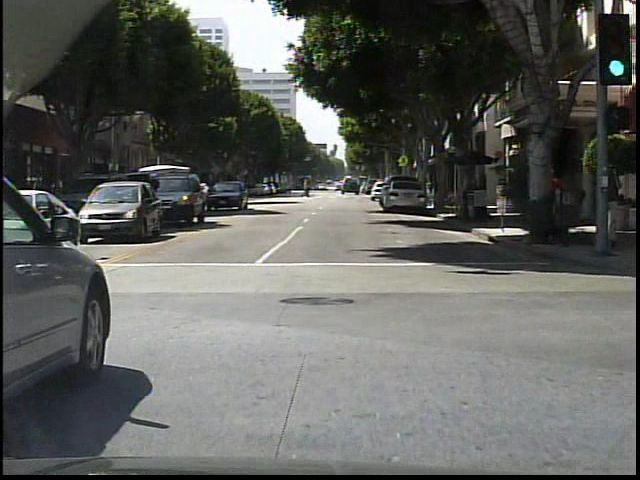person: (597, 157, 620, 247), (548, 170, 563, 234), (463, 171, 478, 221), (300, 178, 310, 197)
